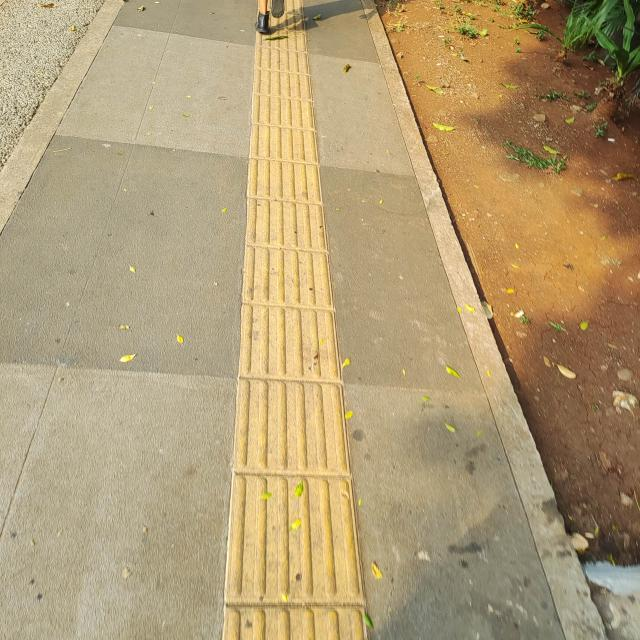lurus: (238, 15, 348, 640)
